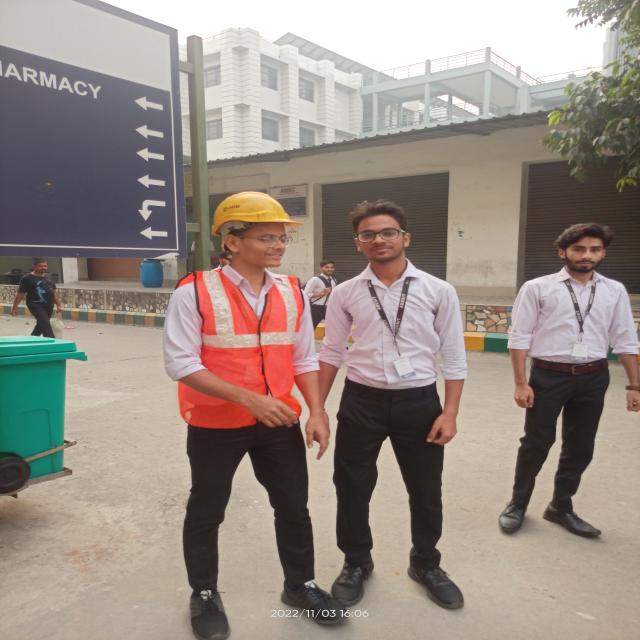safe: (167, 191, 330, 640)
unsafe: (307, 203, 467, 610), (500, 221, 640, 541), (11, 256, 63, 342), (307, 261, 336, 328)
